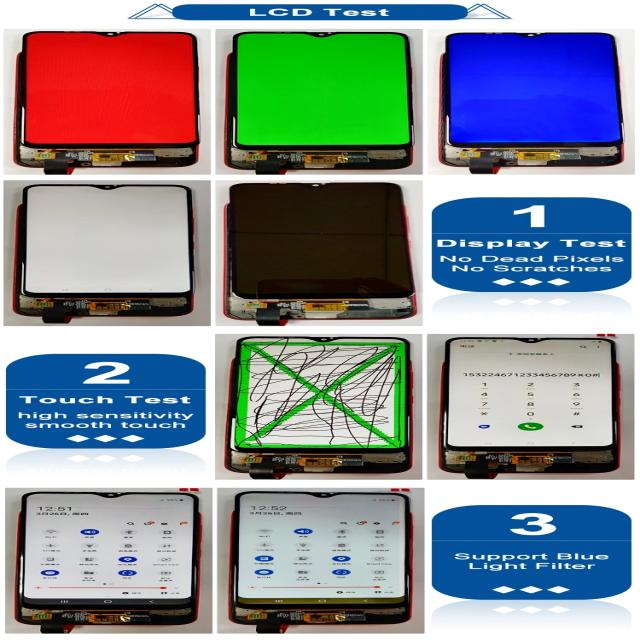mobile phone: (222, 182, 416, 325), (223, 31, 414, 174), (13, 30, 200, 174), (224, 336, 412, 479), (437, 32, 625, 173), (228, 490, 412, 633), (437, 336, 620, 478), (15, 491, 200, 631), (12, 184, 194, 323)
